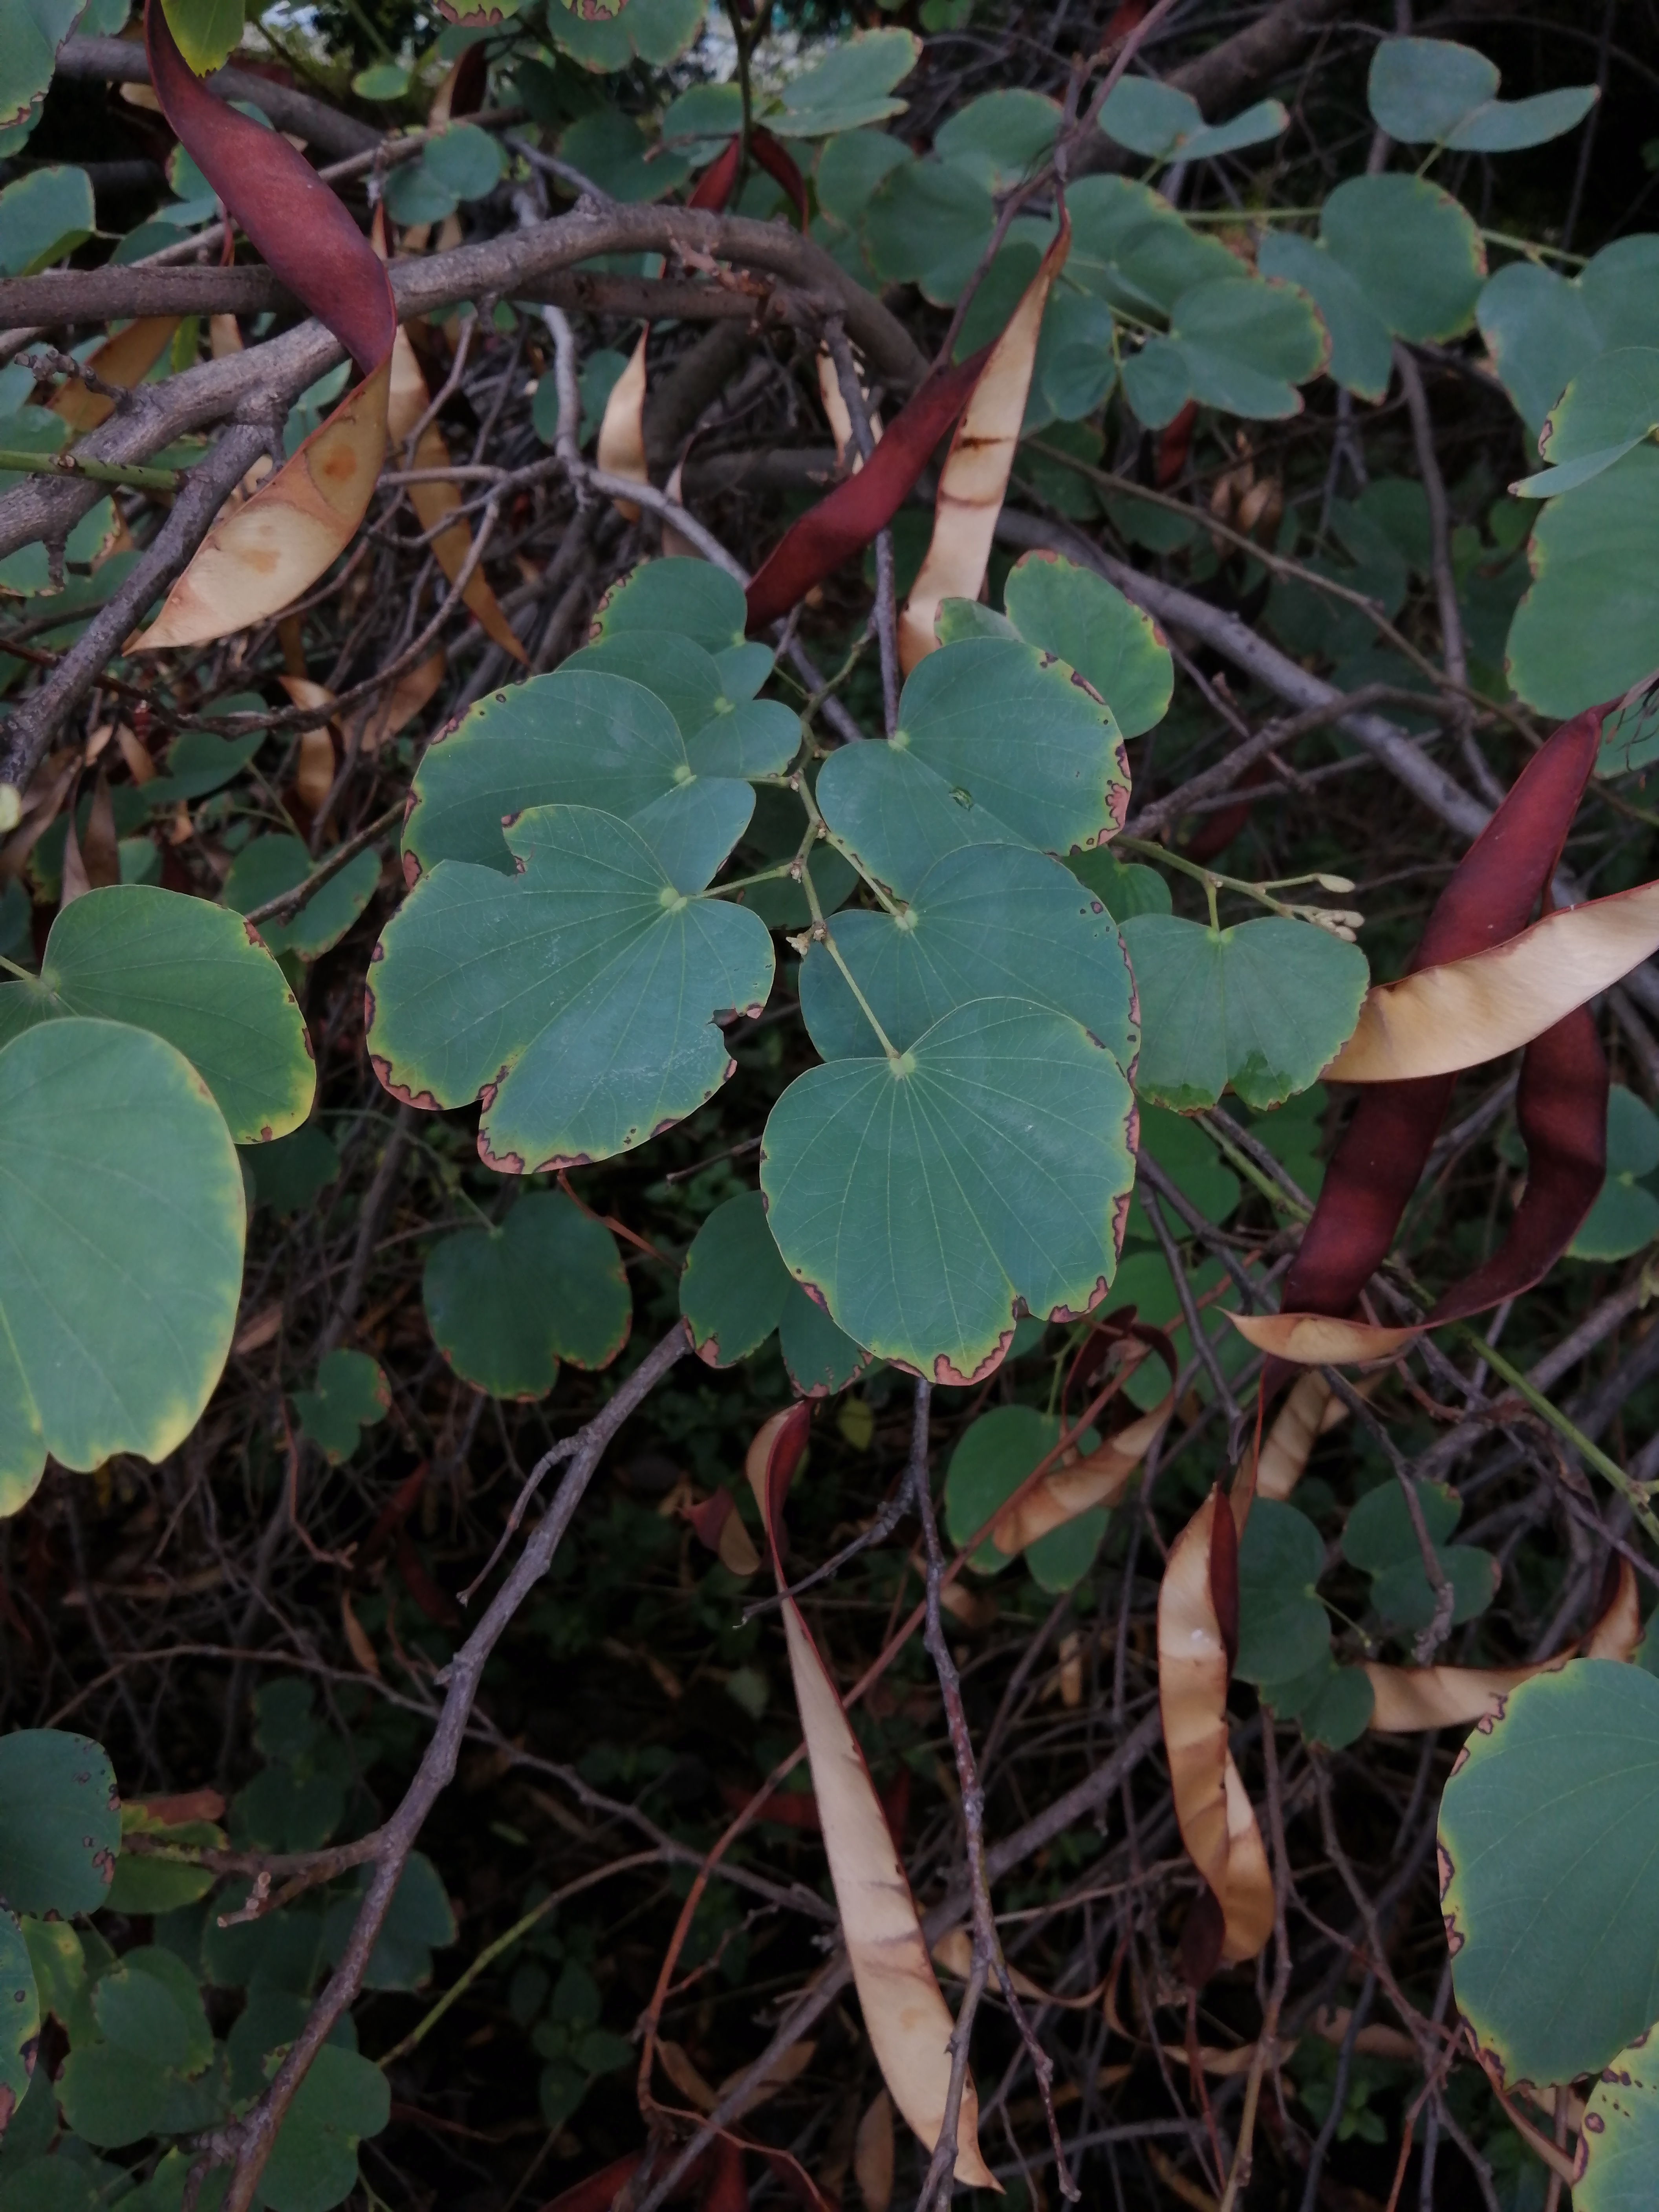nothealthy: (345, 787, 798, 1186), (753, 988, 1150, 1399), (1410, 1642, 1650, 2107), (389, 664, 772, 937), (810, 634, 1155, 934), (411, 1186, 636, 1413)
